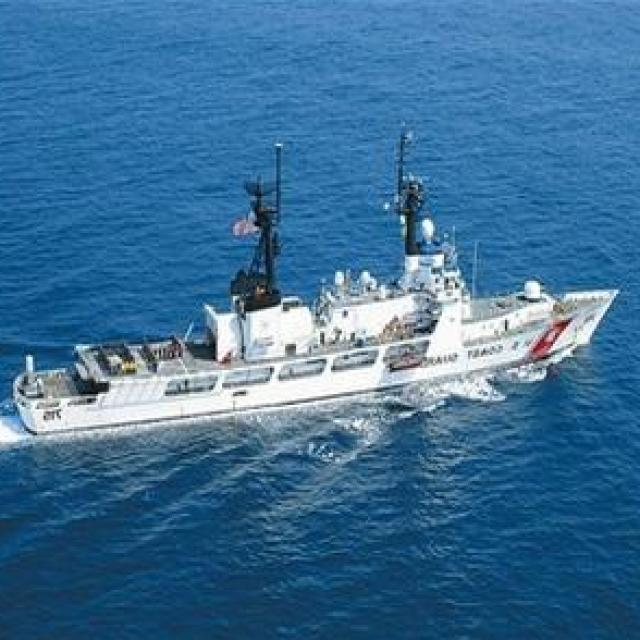navalvessels: (8, 125, 616, 432)
